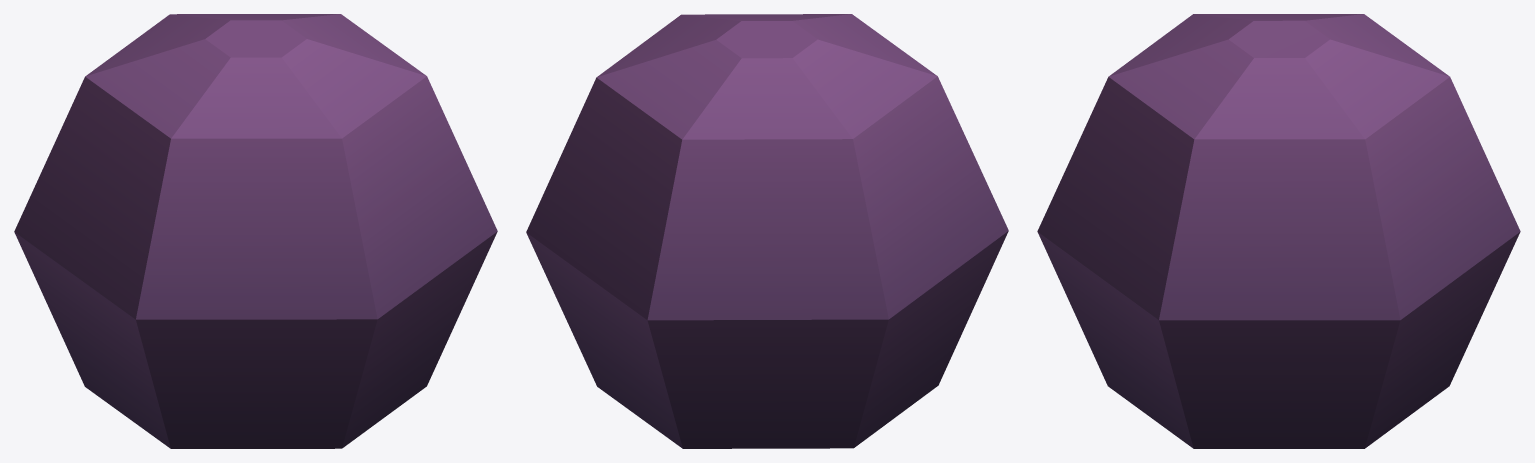
File: Grape Piece.fbx
The picture shows the model from 3 angles, left to right: view 1: azimuth 30°, elevation 25°; view 2: azimuth 150°, elevation 25°; view 3: azimuth 270°, elevation 25°; orthographic projection.
Parts seen in each view (by area): view 1: Grape Piece; view 2: Grape Piece; view 3: Grape Piece.
Part boxes in pixels (left/top/right/bottom): Grape Piece: left=14, top=14, right=497, bottom=448; Grape Piece: left=526, top=14, right=1008, bottom=448; Grape Piece: left=1037, top=14, right=1520, bottom=448.
Bounding box in the file's own units: 4.43 × 4.44 × 5.11.
